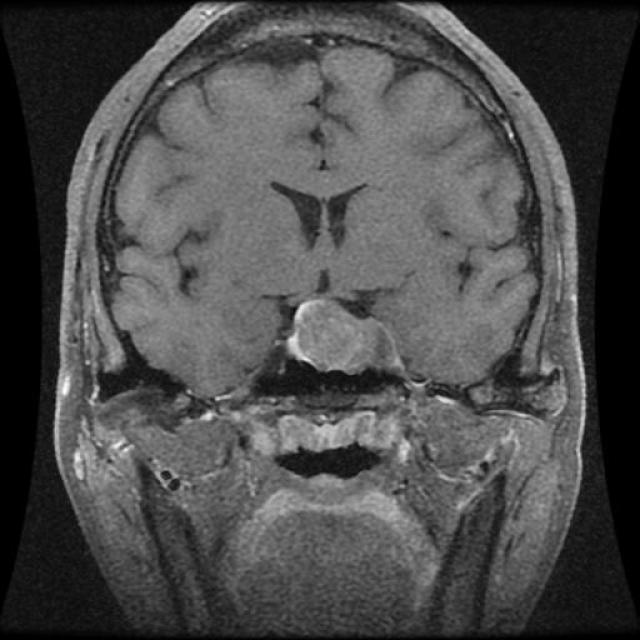pituitary: (274, 286, 412, 389)
